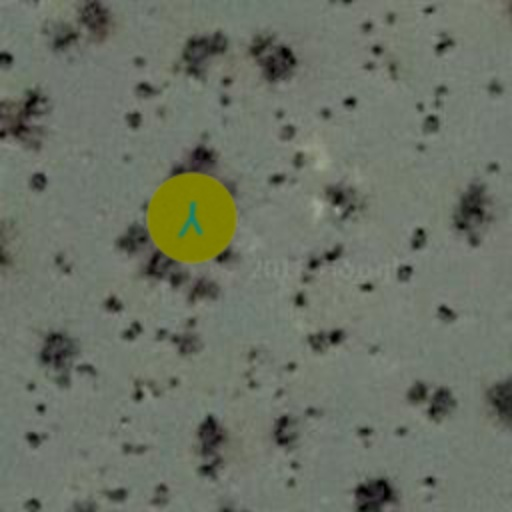circle: (142, 168, 242, 268)
